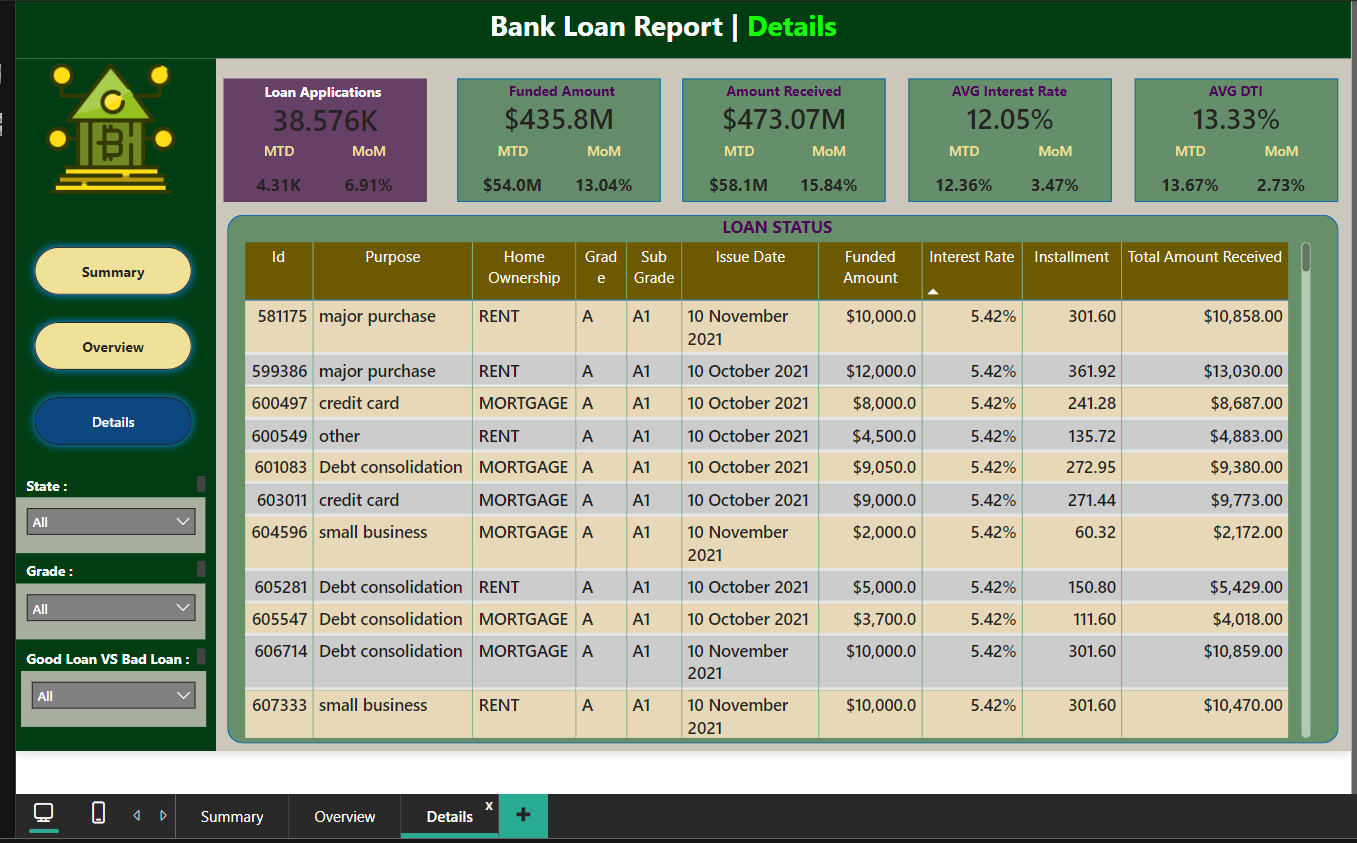

Layout of this report page (visuals, bound fields, positions):
{"tool":"powerbi","page":{"name":"Details","canvas":[1280,720],"ordinal":2},"visuals":[{"type":"shape","box":[198.5,74.6,195.1,118.5],"z":0,"group":"g1"},{"type":"shape","box":[422.7,75,195.1,118.5],"z":500,"group":"g2"},{"type":"shape","box":[639.4,75,195.1,118.5],"z":500,"group":"g3"},{"type":"shape","box":[856,75,195.1,118.5],"z":500,"group":"g4"},{"type":"shape","box":[1072.5,75,195.1,118.5],"z":500,"group":"g5"},{"type":"shape","box":[0,55.1,191.8,665.2],"z":1000},{"type":"cardVisual","fields":{"Data":["Measurs Table.Total Loan Applications"]},"box":[198.5,74.6,195.1,59.3],"z":1000,"group":"g1"},{"type":"cardVisual","fields":{"Data":["Measurs Table.Total Funded Amount"]},"box":[422.7,75,195.1,59.3],"z":1000,"group":"g2"},{"type":"cardVisual","fields":{"Data":["Measurs Table.Total Amount Received"]},"box":[639.4,75,195.1,59.3],"z":1000,"group":"g3"},{"type":"cardVisual","fields":{"Data":["Measurs Table.AVG Interest Rate"]},"box":[856,75,195.1,59.3],"z":1000,"group":"g4"},{"type":"cardVisual","fields":{"Data":["Measurs Table.AVG DTI"]},"box":[1072.5,75,195.1,59.3],"z":1000,"group":"g5"},{"type":"shape","box":[0,0,1279.9,55],"z":2000},{"type":"textbox","box":[430.2,72.1,186.1,33.2],"z":2000,"group":"g2"},{"type":"textbox","box":[638.9,72.1,194.8,33.2],"z":2000,"group":"g3"},{"type":"textbox","box":[856.1,72.1,193.3,33.2],"z":2000,"group":"g4"},{"type":"textbox","box":[1073.2,72.1,194.8,33.2],"z":2000,"group":"g5"},{"type":"textbox","box":[195.4,73.1,197.7,31.7],"z":2000,"group":"g1"},{"type":"textbox","box":[449.4,0,396.3,58],"z":3000},{"type":"cardVisual","title":"MTD","fields":{"Data":["Measurs Table.MTD Loan Applications"]},"box":[218.3,133.9,67.9,59.3],"z":3000,"group":"g1"},{"type":"cardVisual","title":"MTD","fields":{"Data":["Measurs Table.MTD Funded Amount"]},"box":[442.5,134.2,67.9,59.3],"z":3000,"group":"g2"},{"type":"cardVisual","title":"MTD","fields":{"Data":["Measurs Table.MTD Amount Received"]},"box":[659.2,134.2,67.9,59.3],"z":3000,"group":"g3"},{"type":"cardVisual","title":"MTD","fields":{"Data":["Measurs Table.MTD AVG Interested Rate"]},"box":[875.8,134.2,67.9,59.3],"z":3000,"group":"g4"},{"type":"cardVisual","title":"MTD","fields":{"Data":["Measurs Table.MTD AVG DTI"]},"box":[1092.3,134.2,67.9,59.3],"z":3000,"group":"g5"},{"type":"group","id":"g1","title":"Loan Application","box":[195.4,73.1,199,119.9],"z":4000},{"type":"cardVisual","title":"MoM","fields":{"Data":["Measurs Table.MOM Loan Application"]},"box":[304.7,133.9,67.9,59.3],"z":4000,"group":"g1"},{"type":"cardVisual","title":"MoM","fields":{"Data":["Measurs Table.MOM Funded Amount"]},"box":[528.9,134.2,67.9,59.3],"z":4000,"group":"g2"},{"type":"cardVisual","title":"MoM","fields":{"Data":["Measurs Table.MOM Amount Received"]},"box":[745.6,134.2,67.9,59.3],"z":4000,"group":"g3"},{"type":"cardVisual","title":"MoM","fields":{"Data":["Measurs Table.MOM AVG Intrest Rate"]},"box":[962.2,134.2,67.9,59.3],"z":4000,"group":"g4"},{"type":"cardVisual","title":"MoM","fields":{"Data":["Measurs Table.MOM AVG DTI"]},"box":[1178.7,134.2,67.9,59.3],"z":4000,"group":"g5"},{"type":"group","id":"g2","title":"Funded Amount","box":[422.7,72.1,194.8,121.2],"z":5000},{"type":"group","id":"g3","title":"Amount Received","box":[638.9,72.1,195.6,121.4],"z":6000},{"type":"group","id":"g4","title":"AVG Interested Rate","box":[856,72.1,195.1,121.4],"z":7000},{"type":"group","id":"g5","title":"AVG DTI","box":[1072.5,72.1,195.5,121.4],"z":8000},{"type":"slicer","fields":{"Values":["financial_loan.address_state"]},"box":[0,476.1,181.8,53.4],"z":9000},{"type":"textbox","box":[4.3,450.1,181.8,26],"z":10000},{"type":"slicer","fields":{"Values":["financial_loan.grade"]},"box":[0,558.3,181.8,53.4],"z":11000},{"type":"textbox","box":[4.3,532.4,181.8,26],"z":12000},{"type":"slicer","fields":{"Values":["financial_loan.Good Loan vs Bad Loan"]},"box":[4.3,642,177.5,53.4],"z":13000},{"type":"textbox","box":[4.3,616.1,181.8,26],"z":14000},{"type":"shape","box":[202.5,204.9,1065.5,507],"z":22000},{"type":"tableEx","title":"LOAN STATUS","fields":{"Values":["financial_loan.id","financial_loan.purpose","financial_loan.home_ownership","financial_loan.grade","financial_loan.sub_grade","financial_loan.issue_date","Measurs Table.Total Funded Amount","Measurs Table.AVG Interest Rate","Sum(financial_loan.installment)","Measurs Table.Total Amount Received"]},"box":[213.5,204.9,1033,506.4],"z":22002},{"type":"pageNavigator","box":[9.6,227.7,167.8,207.3],"z":22003},{"type":"image","box":[18,55.1,146.2,134.2],"z":22004}]}

Visuals, with their boxes on the page's 1280x720 design canvas (x1, y1, x2, y2). These are canvas units, not pixel positions in the 1357x843 screenshot, which may show the page scaled, cropped or inside an application window:
shape: {"x1": 198, "y1": 75, "x2": 394, "y2": 193}
shape: {"x1": 423, "y1": 75, "x2": 618, "y2": 194}
shape: {"x1": 639, "y1": 75, "x2": 834, "y2": 194}
shape: {"x1": 856, "y1": 75, "x2": 1051, "y2": 194}
shape: {"x1": 1072, "y1": 75, "x2": 1268, "y2": 194}
shape: {"x1": 0, "y1": 55, "x2": 192, "y2": 720}
cardVisual - Measurs Table.Total Loan Applications: {"x1": 198, "y1": 75, "x2": 394, "y2": 134}
cardVisual - Measurs Table.Total Funded Amount: {"x1": 423, "y1": 75, "x2": 618, "y2": 134}
cardVisual - Measurs Table.Total Amount Received: {"x1": 639, "y1": 75, "x2": 834, "y2": 134}
cardVisual - Measurs Table.AVG Interest Rate: {"x1": 856, "y1": 75, "x2": 1051, "y2": 134}
cardVisual - Measurs Table.AVG DTI: {"x1": 1072, "y1": 75, "x2": 1268, "y2": 134}
shape: {"x1": 0, "y1": 0, "x2": 1280, "y2": 55}
textbox: {"x1": 430, "y1": 72, "x2": 616, "y2": 105}
textbox: {"x1": 639, "y1": 72, "x2": 834, "y2": 105}
textbox: {"x1": 856, "y1": 72, "x2": 1049, "y2": 105}
textbox: {"x1": 1073, "y1": 72, "x2": 1268, "y2": 105}
textbox: {"x1": 195, "y1": 73, "x2": 393, "y2": 105}
textbox: {"x1": 449, "y1": 0, "x2": 846, "y2": 58}
"MTD" cardVisual: {"x1": 218, "y1": 134, "x2": 286, "y2": 193}
"MTD" cardVisual: {"x1": 442, "y1": 134, "x2": 510, "y2": 194}
"MTD" cardVisual: {"x1": 659, "y1": 134, "x2": 727, "y2": 194}
"MTD" cardVisual: {"x1": 876, "y1": 134, "x2": 944, "y2": 194}
"MTD" cardVisual: {"x1": 1092, "y1": 134, "x2": 1160, "y2": 194}
"Loan Application" group: {"x1": 195, "y1": 73, "x2": 394, "y2": 193}
"MoM" cardVisual: {"x1": 305, "y1": 134, "x2": 373, "y2": 193}
"MoM" cardVisual: {"x1": 529, "y1": 134, "x2": 597, "y2": 194}
"MoM" cardVisual: {"x1": 746, "y1": 134, "x2": 814, "y2": 194}
"MoM" cardVisual: {"x1": 962, "y1": 134, "x2": 1030, "y2": 194}
"MoM" cardVisual: {"x1": 1179, "y1": 134, "x2": 1247, "y2": 194}
"Funded Amount" group: {"x1": 423, "y1": 72, "x2": 618, "y2": 193}
"Amount Received" group: {"x1": 639, "y1": 72, "x2": 834, "y2": 194}
"AVG Interested Rate" group: {"x1": 856, "y1": 72, "x2": 1051, "y2": 194}
"AVG DTI" group: {"x1": 1072, "y1": 72, "x2": 1268, "y2": 194}
slicer - financial_loan.address_state: {"x1": 0, "y1": 476, "x2": 182, "y2": 530}
textbox: {"x1": 4, "y1": 450, "x2": 186, "y2": 476}
slicer - financial_loan.grade: {"x1": 0, "y1": 558, "x2": 182, "y2": 612}
textbox: {"x1": 4, "y1": 532, "x2": 186, "y2": 558}
slicer - financial_loan.Good Loan vs Bad Loan: {"x1": 4, "y1": 642, "x2": 182, "y2": 695}
textbox: {"x1": 4, "y1": 616, "x2": 186, "y2": 642}
shape: {"x1": 202, "y1": 205, "x2": 1268, "y2": 712}
"LOAN STATUS" tableEx: {"x1": 214, "y1": 205, "x2": 1246, "y2": 711}
pageNavigator: {"x1": 10, "y1": 228, "x2": 177, "y2": 435}
image: {"x1": 18, "y1": 55, "x2": 164, "y2": 189}
